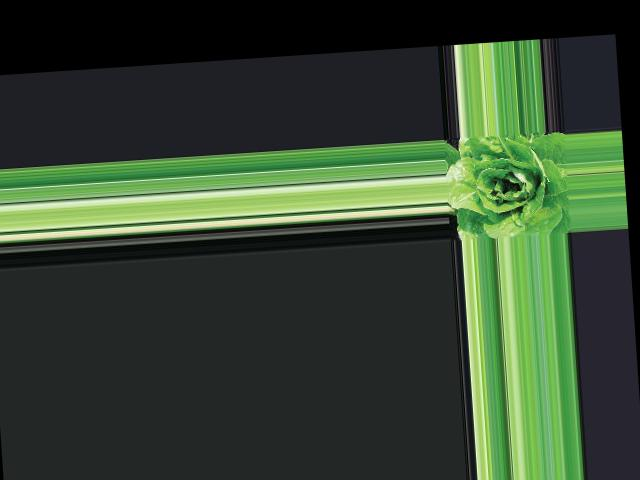lettuce: (448, 130, 569, 237)
